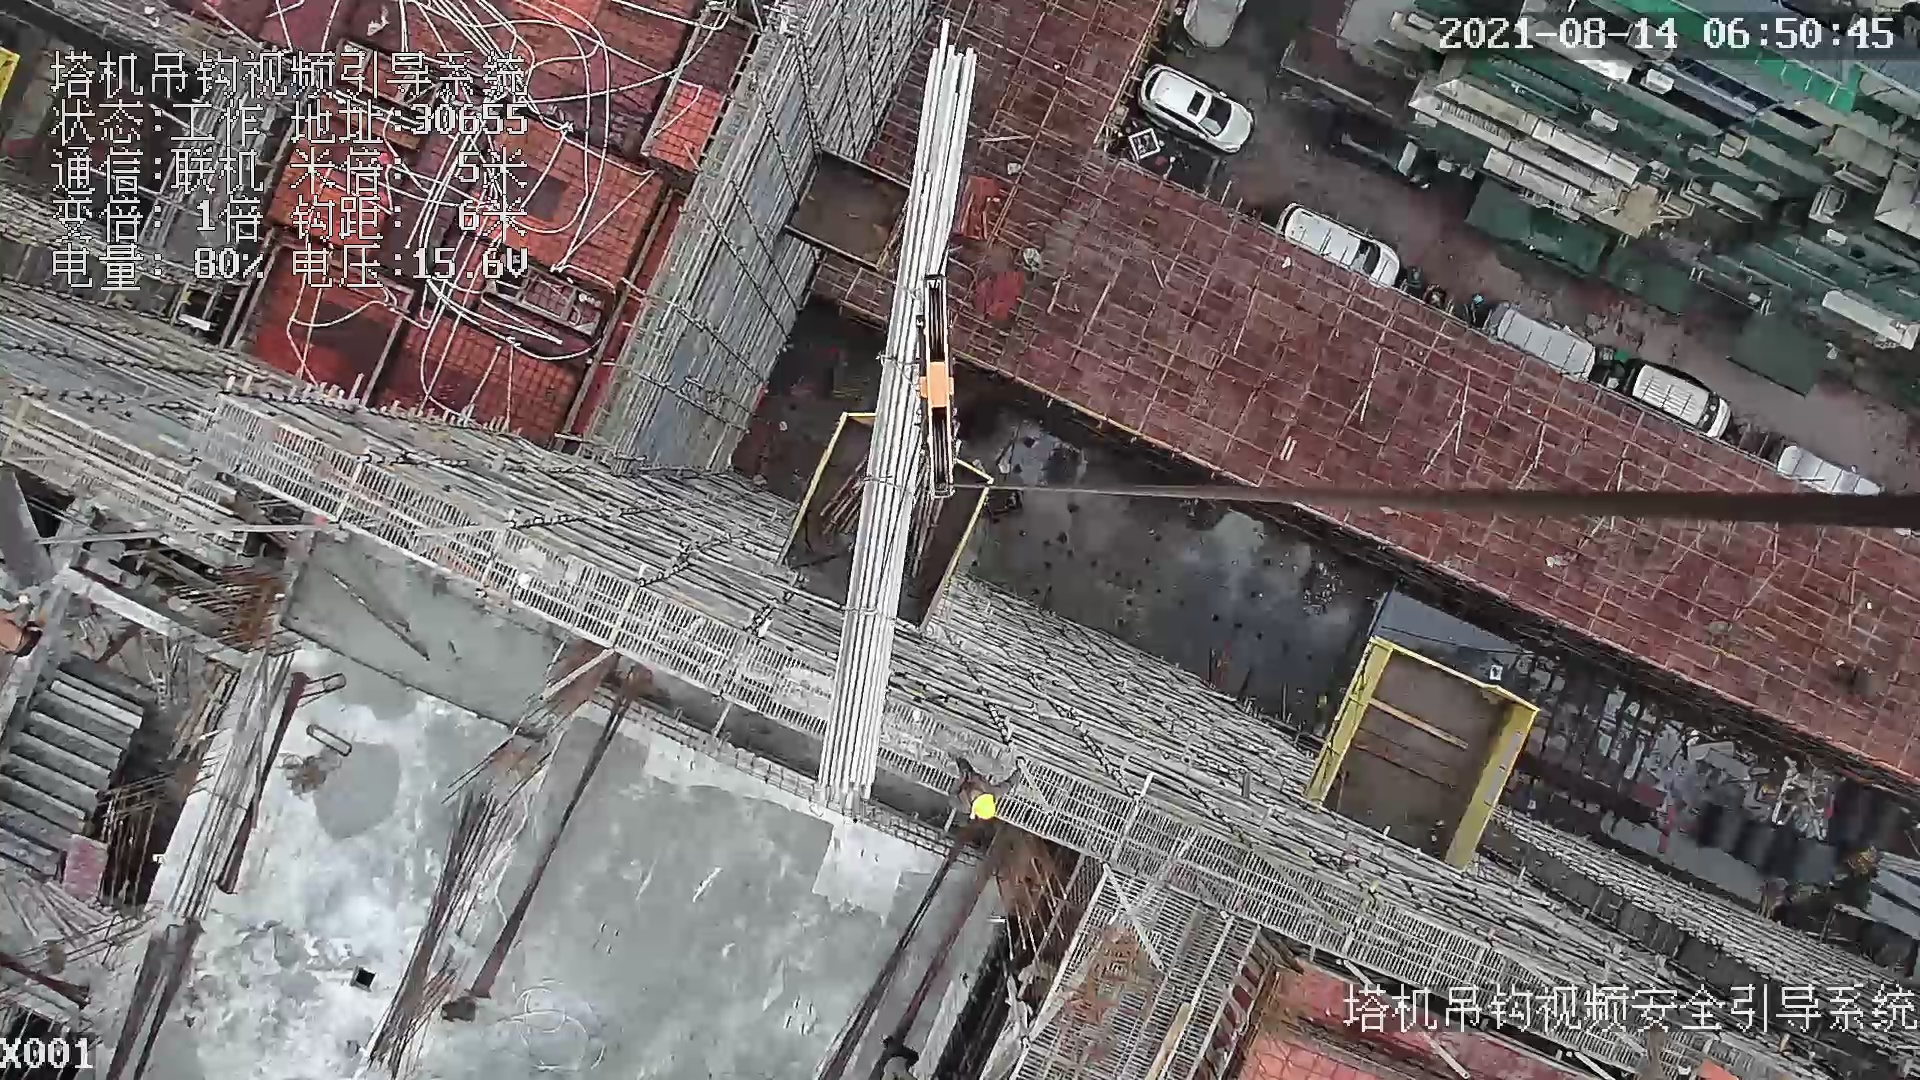helmet: (967, 783, 996, 823)
hook: (901, 277, 970, 504)
person: (947, 754, 1023, 827)
